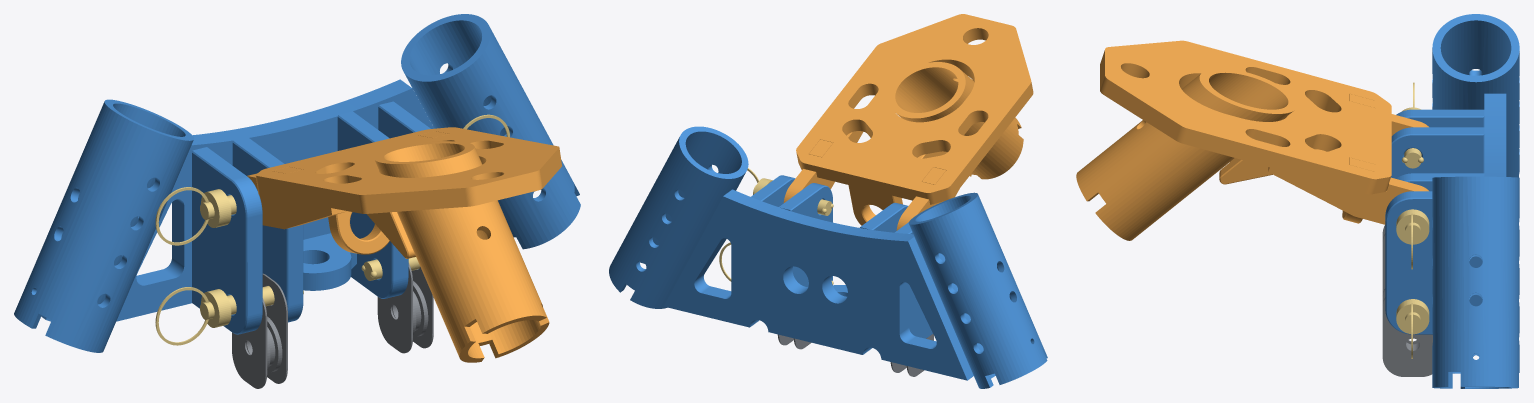
File: cabeza_v9.glb
3 views of the same model, side by side, from view 1: azimuth 30°, elevation 25°; view 2: azimuth 150°, elevation 25°; view 3: azimuth 270°, elevation 25° (orthographic). The views are drawn at different scales.
Visible parts, largest first — view 1: c_02a, g_06, c_02b, g_05, c_01, c_03a, c_03b, c_PLi, c_03c, c_PLd, c_04, g_07a (+6 smaller); view 2: c_01, g_05, c_02a, c_02b, g_06, c_03c, g_08, g_07b, c_03a, c_03b, g_07a, c_03d (+1 smaller); view 3: g_05, c_02b, g_06, c_02a, c_03d, c_03b, g_07b, c_PLd, c_01, c_03a, c_P-I1d, c_P-I2d (+4 smaller).
Boxes of the visible parts, box(x1,y1,x2,y2) form: c_02a: box(14, 99, 193, 352); g_06: box(374, 141, 549, 362); c_02b: box(401, 14, 580, 249); g_05: box(255, 127, 561, 213); c_01: box(116, 79, 433, 321); c_03a: box(192, 147, 262, 334); c_03b: box(232, 137, 303, 322); c_PLi: box(232, 273, 287, 388); c_03c: box(337, 111, 408, 298); c_PLd: box(377, 263, 433, 353); c_04: box(303, 233, 356, 290); g_07a: box(247, 167, 347, 229); c_01: box(663, 189, 973, 380); g_05: box(796, 14, 1033, 204); c_02a: box(908, 192, 1047, 388); c_02b: box(609, 126, 748, 308); g_06: box(888, 62, 1023, 179); c_03c: box(779, 183, 832, 286); g_08: box(848, 185, 902, 225); g_07b: box(783, 131, 863, 202); c_03a: box(895, 222, 932, 338); c_03b: box(859, 202, 908, 232); g_07a: box(896, 167, 959, 230); c_03d: box(751, 175, 795, 206); g_05: box(1100, 40, 1391, 194); c_02b: box(1432, 176, 1519, 388); g_06: box(1076, 68, 1297, 240); c_02a: box(1432, 14, 1519, 177); c_03d: box(1385, 191, 1482, 334); c_03b: box(1391, 127, 1484, 178); g_07b: box(1268, 157, 1428, 224); c_PLd: box(1382, 289, 1432, 376); c_01: box(1484, 93, 1506, 176); c_03a: box(1396, 109, 1484, 127); c_P-I1d: box(1396, 209, 1429, 269); c_P-I2d: box(1396, 299, 1429, 358).
Size of the model in its own units: 417 by 223 by 323.
